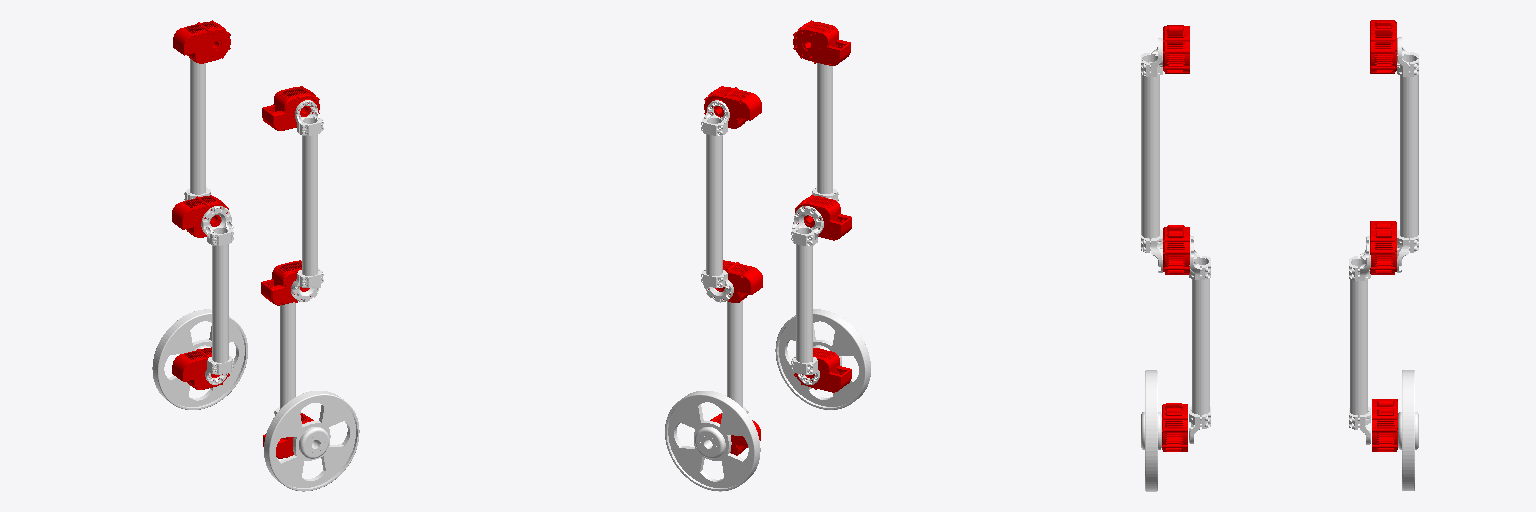
--- Facts derived from the render (not from the file) ---
The picture shows the robot from 3 angles, left to right: view 1: azimuth 30°, elevation 25°; view 2: azimuth 150°, elevation 25°; view 3: azimuth 270°, elevation 25°; orthographic projection.
Robot: igor — 17 links, 16 joints (4 revolute, 2 continuous, 10 fixed); root link base_link; default pose: all joints at 0.
Links seen in each view (by area): view 1: R_wheel, L_wheel, R_upperleg, L_lowerleg, L_upperleg, L_baseActuator, R_lowerleg, R_baseActuator, L_kneeActuator, L_wheelActuator, R_kneeActuator; view 2: L_wheel, R_wheel, L_upperleg, R_lowerleg, R_upperleg, R_baseActuator, L_lowerleg, L_baseActuator, R_kneeActuator, R_wheelActuator, L_kneeActuator; view 3: L_upperleg, R_upperleg, L_lowerleg, R_lowerleg, R_wheel, L_wheel, L_baseActuator, L_kneeActuator, L_wheelActuator, R_kneeActuator, R_baseActuator, R_wheelActuator.
Boxes of the visible links, x1=… form: R_wheel: x1=264, y1=391, x2=359, y2=491; L_wheel: x1=152, y1=309, x2=247, y2=409; R_upperleg: x1=291, y1=100, x2=323, y2=301; L_lowerleg: x1=201, y1=206, x2=233, y2=384; L_upperleg: x1=184, y1=59, x2=210, y2=200; L_baseActuator: x1=173, y1=20, x2=230, y2=63; R_lowerleg: x1=274, y1=302, x2=300, y2=414; R_baseActuator: x1=262, y1=86, x2=319, y2=130; L_kneeActuator: x1=172, y1=195, x2=228, y2=237; L_wheelActuator: x1=172, y1=347, x2=229, y2=389; R_kneeActuator: x1=261, y1=260, x2=310, y2=305; L_wheel: x1=665, y1=391, x2=760, y2=491; R_wheel: x1=775, y1=309, x2=870, y2=409; L_upperleg: x1=701, y1=100, x2=733, y2=302; R_lowerleg: x1=791, y1=206, x2=823, y2=384; R_upperleg: x1=812, y1=63, x2=838, y2=201; R_baseActuator: x1=793, y1=20, x2=850, y2=65; L_lowerleg: x1=722, y1=300, x2=748, y2=413; L_baseActuator: x1=704, y1=86, x2=761, y2=128; R_kneeActuator: x1=795, y1=195, x2=851, y2=240; R_wheelActuator: x1=794, y1=348, x2=851, y2=392; L_kneeActuator: x1=708, y1=260, x2=762, y2=302; L_upperleg: x1=1397, y1=37, x2=1418, y2=272; R_upperleg: x1=1141, y1=38, x2=1162, y2=272; L_lowerleg: x1=1349, y1=236, x2=1370, y2=444; R_lowerleg: x1=1189, y1=235, x2=1210, y2=443; R_wheel: x1=1141, y1=370, x2=1161, y2=491; L_wheel: x1=1398, y1=370, x2=1418, y2=490; L_baseActuator: x1=1370, y1=20, x2=1396, y2=73; L_kneeActuator: x1=1370, y1=221, x2=1396, y2=274; L_wheelActuator: x1=1372, y1=399, x2=1397, y2=451; R_kneeActuator: x1=1163, y1=225, x2=1189, y2=274; R_baseActuator: x1=1163, y1=25, x2=1189, y2=73; R_wheelActuator: x1=1162, y1=403, x2=1187, y2=451.
Bounding box of the posed robot: 0.2048 × 0.47 × 0.8416 m (x, y, z).
12 mesh visuals loaded from 5 distinct referenced files (4 binary STL); not drawn: 1 (reference not matched to a file when rendering).

The robot description file, URDF, robot "igor":
<?xml version="1.0" encoding="utf-8"?>
<!-- =================================================================================== -->
<!-- |    This document was autogenerated by xacro from Igor_knee.urdf.xacro           | -->
<!-- |    EDITING THIS FILE BY HAND IS NOT RECOMMENDED                                 | -->
<!-- =================================================================================== -->
<robot name="igor">
  <!-- Gazebo plug-in for ROS -->
  <gazebo>
    <plugin filename="libgazebo_ros_control.so" name="gazebo_ros_control">
      <robotNamespace>/igor</robotNamespace>
    </plugin>
  </gazebo>
  <!-- Dummy link for reference -->
  <link name="base_link"/>
  <link name="chassis">
    <inertial>
      <origin rpy="0.0 0.0 0.0" xyz="0 0 0"/>
      <mass value="5.0"/>
      <inertia ixx="0.0774" ixy="0.000" ixz="0.00000" iyy="0.04543" iyz="0.000" izz="0.04543"/>
    </inertial>
    <!-- Mass change for uncertainity-->
    <!--inertial>
     			<origin xyz="0 0 0" rpy="0.0 0.0 0.0" />
			<mass value="4" />
      			<inertia izz="0.036344" iyz="0.0" ixz="0.00" iyy="0.036344" ixy="0.000" ixx="0.061936" />
		</inertial-->
    <visual>
      <origin rpy="3.14159 0.0 -1.570795" xyz="0.0635 0.16 0.1524"/>
      <geometry>
        <!--box size="0.30 0.1 0.30"/-->
        <mesh filename="package://igor/meshes/IgorBody.STL" scale="0.001 0.001 0.001"/>
      </geometry>
      <material name="white">
        <color rgba="1 1 1 1.0"/>
      </material>
    </visual>
    <collision>
      <geometry>
        <box size="0.127 0.3048 0.3048"/>
      </geometry>
    </collision>
  </link>
  <joint name="base_link_to_chassis" type="fixed">
    <origin rpy="0 0 0" xyz="0 0 0"/>
    <parent link="base_link"/>
    <child link="chassis"/>
  </joint>
  <gazebo reference="chassis">
    <mu1 value="1.0"/>
    <mu2 value="1.0"/>
    <kp value="10000.0"/>
    <kd value="10000.0"/>
    <material>Gazebo/Grey</material>
  </gazebo>
  <!-- imu_link for getting data in imu frame -->
  <link name="body_imu_link"/>
  <joint name="body_imu_link_to_chassis" type="fixed">
    <origin rpy="0 0 0" xyz="0 0 0"/>
    <parent link="chassis"/>
    <child link="body_imu_link"/>
  </joint>
  <link name="L_baseActuator">
    <visual>
      <origin rpy="4.712385 3.14159 0" xyz="0.055 -0.0225 -0.0365"/>
      <geometry>
        <mesh filename="package://igor/meshes/X8-Export.STL" scale="0.001 0.001 0.001"/>
      </geometry>
      <material name="red">
        <color rgba="1.0 0.0 0.0 1.0"/>
      </material>
    </visual>
    <collision>
      <origin rpy="0.0 0.0 0.0" xyz="0.0 0.0 0.0"/>
      <geometry>
        <box size="0.11 0.045 0.073"/>
      </geometry>
    </collision>
    <inertial>
      <mass value="0.46"/>
      <inertia ixx="0.00066" ixy="0.0" ixz="0.0" iyy="0.00054" iyz="0.0" izz="0.00028"/>
    </inertial>
  </link>
  <gazebo reference="L_baseActuator">
    <mu1 value="1.0"/>
    <mu2 value="1.0"/>
    <kp value="10000.0"/>
    <kd value="10000.0"/>
    <material>Gazebo/Red</material>
  </gazebo>
  <joint name="L_baseActuator_joint" type="fixed">
    <parent link="chassis"/>
    <child link="L_baseActuator"/>
    <origin rpy="0 0 0" xyz="0.0 0.1749 0"/>
  </joint>
  <gazebo reference="L_baseActuator_joint">
    <preserveFixedJoint>true</preserveFixedJoint>
  </gazebo>
  <link name="R_baseActuator">
    <visual>
      <origin rpy="1.570795 3.14159 0" xyz="0.055 0.0225 0.0365"/>
      <geometry>
        <mesh filename="package://igor/meshes/X8-Export.STL" scale="0.001 0.001 0.001"/>
      </geometry>
      <material name="red">
        <color rgba="1.0 0.0 0.0 1.0"/>
      </material>
    </visual>
    <collision>
      <origin rpy="0.0 0.0 0.0" xyz="0.0 0.0 0.0"/>
      <geometry>
        <box size="0.11 0.045 0.073"/>
      </geometry>
    </collision>
    <inertial>
      <mass value="0.46"/>
      <inertia ixx="0.00066" ixy="0.0" ixz="0.0" iyy="0.00054" iyz="0.0" izz="0.00028"/>
    </inertial>
  </link>
  <gazebo reference="R_baseActuator">
    <mu1 value="1.0"/>
    <mu2 value="1.0"/>
    <kp value="10000.0"/>
    <kd value="10000.0"/>
    <material>Gazebo/Red</material>
  </gazebo>
  <joint name="R_baseActuator_joint" type="fixed">
    <parent link="chassis"/>
    <child link="R_baseActuator"/>
    <origin rpy="0 0 0" xyz="0.0 -0.1749 0.0"/>
  </joint>
  <gazebo reference="R_baseActuator_joint">
    <preserveFixedJoint>true</preserveFixedJoint>
  </gazebo>
  <!--Right Leg-->
  <link name="R_upperleg">
    <visual>
      <origin rpy="-1.570795 1.570795 3.14159" xyz="-0.03175 0.047625 0.0238125"/>
      <geometry>
        <mesh filename="package://igor/meshes/upperLeg.STL" scale="0.001 0.001 0.001"/>
        <!--cylinder radius="0.015875" length="0.35" /-->
      </geometry>
      <material name="white">
        <color rgba="1.0 1.0 1.0 1.0"/>
      </material>
    </visual>
    <collision>
      <origin rpy="0.0 0.0 0.0" xyz="0.0 0.0 -0.175"/>
      <geometry>
        <cylinder length="0.35" radius="0.015875"/>
      </geometry>
    </collision>
    <inertial>
      <origin rpy="0 0 0" xyz="0 0 -0.175"/>
      <mass value="0.22"/>
      <inertia ixx="0.00226" ixy="0.0" ixz="0.0" iyy="0.00226" iyz="0.0" izz="4.6E-05"/>
    </inertial>
  </link>
  <joint name="R_hfe_joint" type="revolute">
    <origin rpy="0 0 0" xyz="0.015875 -0.038375 0.0"/>
    <parent link="R_baseActuator"/>
    <child link="R_upperleg"/>
    <limit effort="15" lower="-0" upper="0" velocity="10"/>
    <axis xyz="0 1 0"/>
    <dynamics damping="0.1"/>
  </joint>
  <transmission name="R_hfe_trans">
    <type>transmission_interface/SimpleTransmission</type>
    <actuator name="R_hfe_motor">
      <mechanicalReduction>1</mechanicalReduction>
    </actuator>
    <joint name="R_hfe_joint">
      <hardwareInterface>hardware_interface/EffortJointInterface</hardwareInterface>
    </joint>
  </transmission>
  <gazebo reference="R_upperleg">
    <mu1 value="1.0"/>
    <mu2 value="1.0"/>
    <kp value="10000.0"/>
    <kd value="10000.0"/>
    <material>Gazebo/White</material>
  </gazebo>
  <!-- IMU Sensor -->
  <!-- imu_link for getting data in imu frame -->
  <!--link name="${prefix}_upperLeg_imu_link"/>

		<joint name="${prefix}_upperLeg_imu_link_to_${prefix}_upperleg" type="fixed">
			<origin xyz="0 0 -${upper_leg_length/2}" rpy="0 0 0" />
			<parent link="${prefix}_upperleg" />
			<child link="${prefix}_upperLeg_imu_link" />
		</joint>

		<gazebo reference="${prefix}_upperleg">
		    <gravity>true</gravity>
		    <sensor name="{prefix}_upperLeg_imu" type="imu">
		      <always_on>true</always_on>
		      <visualize>true</visualize>
		      <!topic>__default_topic__</topic>
		      <plugin filename="libgazebo_ros_imu_sensor.so" name="imu_plugin">
			<robotNamespace>/igor</robotNamespace>
			<topicName>${prefix}_upperLeg_imu/data</topicName>
			<bodyName>${prefix}_upperleg</bodyName>
			<updateRateHZ>500.0</updateRateHZ>
			<gaussianNoise>0.0</gaussianNoise>
			<xyzOffset>0 0 0</xyzOffset>
			<rpyOffset>0 0 0</rpyOffset>
			<frameName>${prefix}_upperLeg_imu_link</frameName>
		      </plugin>
		      <pose>0 0 0 0 0 0</pose>
		    </sensor>
		</gazebo-->
  <link name="R_lowerleg">
    <visual>
      <origin rpy="1.570795 1.570795 3.14159" xyz="0.0396875 -0.03175 0.0486666666667"/>
      <geometry>
        <mesh filename="package://igor/meshes/lowerLeg.STL" scale="0.001 0.001 0.001"/>
        <!--cylinder radius="0.03175" length="0.3" /-->
      </geometry>
      <material name="white"/>
    </visual>
    <collision>
      <origin rpy="0.0 0.0 0.0" xyz="0.0 0.0 -0.15"/>
      <geometry>
        <cylinder length="0.3" radius="0.015875"/>
        <!-- Actual dimensions -->
      </geometry>
    </collision>
    <inertial>
      <origin rpy="0.0 0.0 0.0" xyz="0.0 0.0 -0.15"/>
      <mass value="0.2"/>
      <inertia ixx="0.001521" ixy="0.00" ixz="0.00" iyy="0.001521" iyz="0.000" izz="4.2E-05"/>
    </inertial>
  </link>
  <joint name="R_kfe_joint" type="revolute">
    <origin rpy="0 0 0" xyz="0.01905 0.038375 0.0"/>
    <parent link="R_kneeActuator"/>
    <child link="R_lowerleg"/>
    <limit effort="15" lower="0" upper="0" velocity="10"/>
    <axis xyz="0 1 0"/>
    <dynamics damping="0.1"/>
  </joint>
  <transmission name="R_kfe_trans">
    <type>transmission_interface/SimpleTransmission</type>
    <actuator name="R_kfe_motor">
      <!--hardwareInterface>hardware_interface/EffortJointInterface</hardwareInterface-->
      <mechanicalReduction>1</mechanicalReduction>
    </actuator>
    <joint name="R_kfe_joint">
      <hardwareInterface>hardware_interface/EffortJointInterface</hardwareInterface>
    </joint>
  </transmission>
  <gazebo reference="R_lowerleg">
    <mu1 value="1.0"/>
    <mu2 value="1.0"/>
    <kp value="10000.0"/>
    <kd value="10000.0"/>
    <material>Gazebo/Grey</material>
  </gazebo>
  <!-- IMU Sensor -->
  <!-- imu_link for getting data in imu frame -->
  <!--link name="${prefix}_lowerLeg_imu_link"/>

		<joint name="${prefix}_lowerLeg_imu_link_to_${prefix}_lowerleg" type="fixed">
			<origin xyz="0 0 -${lower_leg_length/2}" rpy="0 0 0" />
			<parent link="${prefix}_lowerleg" />
			<child link="${prefix}_lowerLeg_imu_link" />
		</joint>

		<gazebo reference="${prefix}_lowerleg">
		    <gravity>true</gravity>
		    <sensor name="{prefix}_lowerLeg_imu" type="imu">
		      <always_on>true</always_on>
		      <visualize>true</visualize>
		      <!topic>__default_topic__</topic>
		      <plugin filename="libgazebo_ros_imu_sensor.so" name="imu_plugin">
			<robotNamespace>/igor</robotNamespace>
			<topicName>${prefix}_lowerLeg_imu/data</topicName>
			<bodyName>${prefix}_lowerleg</bodyName>
			<updateRateHZ>500.0</updateRateHZ>
			<gaussianNoise>0.0</gaussianNoise>
			<xyzOffset>0 0 0</xyzOffset>
			<rpyOffset>0 0 0</rpyOffset>
			<frameName>${prefix}_lowerLeg_imu_link</frameName>
		      </plugin>
		      <pose>0 0 0 0 0 0</pose>
		    </sensor>
		</gazebo-->
  <!--Left Leg-->
  <link name="L_upperleg">
    <visual>
      <origin rpy="-1.570795 1.570795 0.0" xyz="0.03175 -0.047625 0.0238125"/>
      <geometry>
        <mesh filename="package://igor/meshes/upperLeg.STL" scale="0.001 0.001 0.001"/>
        <!--cylinder radius="0.015875" length="0.35" /-->
      </geometry>
      <material name="white">
        <color rgba="1.0 1.0 1.0 1.0"/>
      </material>
    </visual>
    <collision>
      <origin rpy="0.0 0.0 0.0" xyz="0.0 0.0 -0.175"/>
      <geometry>
        <cylinder length="0.35" radius="0.015875"/>
      </geometry>
    </collision>
    <inertial>
      <origin rpy="0 0 0" xyz="0 0 -0.175"/>
      <mass value="0.22"/>
      <inertia ixx="0.00226" ixy="0.0" ixz="0.0" iyy="0.00226" iyz="0.0" izz="4.6E-05"/>
    </inertial>
  </link>
  <joint name="L_hfe_joint" type="revolute">
    <origin rpy="0 0 0" xyz="0.015875 0.038375 0.0"/>
    <parent link="L_baseActuator"/>
    <child link="L_upperleg"/>
    <limit effort="15" lower="-0" upper="0" velocity="10"/>
    <axis xyz="0 1 0"/>
    <dynamics damping="0.1"/>
  </joint>
  <transmission name="L_hfe_trans">
    <type>transmission_interface/SimpleTransmission</type>
    <actuator name="L_hfe_motor">
      <mechanicalReduction>1</mechanicalReduction>
    </actuator>
    <joint name="L_hfe_joint">
      <hardwareInterface>hardware_interface/EffortJointInterface</hardwareInterface>
    </joint>
  </transmission>
  <gazebo reference="L_upperleg">
    <mu1 value="1.0"/>
    <mu2 value="1.0"/>
    <kp value="10000.0"/>
    <kd value="10000.0"/>
    <material>Gazebo/White</material>
  </gazebo>
  <!-- IMU Sensor -->
  <!-- imu_link for getting data in imu frame -->
  <!--link name="${prefix}_upperLeg_imu_link"/>

		<joint name="${prefix}_upperLeg_imu_link_to_${prefix}_upperleg" type="fixed">
			<origin xyz="0 0 -${upper_leg_length/2}" rpy="0 0 0" />
			<parent link="${prefix}_upperleg" />
			<child link="${prefix}_upperLeg_imu_link" />
		</joint>

		<gazebo reference="${prefix}_upperleg">
		    <gravity>true</gravity>
		    <sensor name="{prefix}_upperLeg_imu" type="imu">
		      <always_on>true</always_on>
		      <visualize>true</visualize>
		      <!topic>__default_topic__</topic>
		      <plugin filename="libgazebo_ros_imu_sensor.so" name="imu_plugin">
			<robotNamespace>/igor</robotNamespace>
			<topicName>${prefix}_upperLeg_imu/data</topicName>
			<bodyName>${prefix}_upperleg</bodyName>
			<updateRateHZ>500.0</updateRateHZ>
			<gaussianNoise>0.0</gaussianNoise>
			<xyzOffset>0 0 0</xyzOffset>
			<rpyOffset>0 0 0</rpyOffset>
			<frameName>${prefix}_upperLeg_imu_link</frameName>
		      </plugin>
		      <pose>0 0 0 0 0 0</pose>
		    </sensor>
		</gazebo-->
  <link name="L_lowerleg">
    <visual>
      <origin rpy="1.570795 1.570795 0.0" xyz="-0.0396875 0.03175 0.0486666666667"/>
      <geometry>
        <mesh filename="package://igor/meshes/lowerLeg.STL" scale="0.001 0.001 0.001"/>
        <!--cylinder radius="0.03175" length="0.3" /-->
      </geometry>
      <material name="white"/>
    </visual>
    <collision>
      <origin rpy="0.0 0.0 0.0" xyz="0.0 0.0 -0.15"/>
      <geometry>
        <cylinder length="0.3" radius="0.015875"/>
        <!-- Actual dimensions -->
      </geometry>
    </collision>
    <inertial>
      <origin rpy="0.0 0.0 0.0" xyz="0.0 0.0 -0.15"/>
      <mass value="0.2"/>
      <inertia ixx="0.001521" ixy="0.00" ixz="0.00" iyy="0.001521" iyz="0.000" izz="4.2E-05"/>
    </inertial>
  </link>
  <joint name="L_kfe_joint" type="revolute">
    <origin rpy="0 0 0" xyz="0.01905 -0.038375 0.0"/>
    <parent link="L_kneeActuator"/>
    <child link="L_lowerleg"/>
    <limit effort="15" lower="0" upper="0" velocity="10"/>
    <axis xyz="0 1 0"/>
    <dynamics damping="0.1"/>
  </joint>
  <transmission name="L_kfe_trans">
    <type>transmission_interface/SimpleTransmission</type>
    <actuator name="L_kfe_motor">
      <!--hardwareInterface>hardware_interface/EffortJointInterface</hardwareInterface-->
      <mechanicalReduction>1</mechanicalReduction>
    </actuator>
    <joint name="L_kfe_joint">
      <hardwareInterface>hardware_interface/EffortJointInterface</hardwareInterface>
    </joint>
  </transmission>
  <gazebo reference="L_lowerleg">
    <mu1 value="1.0"/>
    <mu2 value="1.0"/>
    <kp value="10000.0"/>
    <kd value="10000.0"/>
    <material>Gazebo/Grey</material>
  </gazebo>
  <!-- IMU Sensor -->
  <!-- imu_link for getting data in imu frame -->
  <!--link name="${prefix}_lowerLeg_imu_link"/>

		<joint name="${prefix}_lowerLeg_imu_link_to_${prefix}_lowerleg" type="fixed">
			<origin xyz="0 0 -${lower_leg_length/2}" rpy="0 0 0" />
			<parent link="${prefix}_lowerleg" />
			<child link="${prefix}_lowerLeg_imu_link" />
		</joint>

		<gazebo reference="${prefix}_lowerleg">
		    <gravity>true</gravity>
		    <sensor name="{prefix}_lowerLeg_imu" type="imu">
		      <always_on>true</always_on>
		      <visualize>true</visualize>
		      <!topic>__default_topic__</topic>
		      <plugin filename="libgazebo_ros_imu_sensor.so" name="imu_plugin">
			<robotNamespace>/igor</robotNamespace>
			<topicName>${prefix}_lowerLeg_imu/data</topicName>
			<bodyName>${prefix}_lowerleg</bodyName>
			<updateRateHZ>500.0</updateRateHZ>
			<gaussianNoise>0.0</gaussianNoise>
			<xyzOffset>0 0 0</xyzOffset>
			<rpyOffset>0 0 0</rpyOffset>
			<frameName>${prefix}_lowerLeg_imu_link</frameName>
		      </plugin>
		      <pose>0 0 0 0 0 0</pose>
		    </sensor>
		</gazebo-->
  <!--Right knee-->
  <link name="R_kneeActuator">
    <visual>
      <origin rpy="1.570795 3.14159 0" xyz="0.055 0.0225 0.0365"/>
      <geometry>
        <mesh filename="package://igor/meshes/X8-Export.STL" scale="0.001 0.001 0.001"/>
      </geometry>
      <material name="red">
        <color rgba="1.0 0.0 0.0 1.0"/>
      </material>
    </visual>
    <collision>
      <origin rpy="0.0 0.0 0.0" xyz="0.0 0.0 0.0"/>
      <geometry>
        <box size="0.11 0.045 0.073"/>
      </geometry>
    </collision>
    <inertial>
      <mass value="0.46"/>
      <inertia ixx="0.00066" ixy="0.0" ixz="0.0" iyy="0.00054" iyz="0.0" izz="0.00028"/>
    </inertial>
  </link>
  <gazebo reference="R_kneeActuator">
    <mu1 value="1.0"/>
    <mu2 value="1.0"/>
    <kp value="10000.0"/>
    <kd value="10000.0"/>
    <material>Gazebo/Red</material>
  </gazebo>
  <joint name="R_kneeActuator_joint" type="fixed">
    <parent link="R_upperleg"/>
    <child link="R_kneeActuator"/>
    <origin rpy="0 0 0" xyz="-0.01905 0.038375 -0.374333333333"/>
  </joint>
  <gazebo reference="R_kneeActuator_joint">
    <preserveFixedJoint>true</preserveFixedJoint>
  </gazebo>
  <!--Left knee-->
  <link name="L_kneeActuator">
    <visual>
      <origin rpy="4.712385 3.14159 0" xyz="0.055 -0.0225 -0.0365"/>
      <geometry>
        <mesh filename="package://igor/meshes/X8-Export.STL" scale="0.001 0.001 0.001"/>
      </geometry>
      <material name="red">
        <color rgba="1.0 0.0 0.0 1.0"/>
      </material>
    </visual>
    <collision>
      <origin rpy="0.0 0.0 0.0" xyz="0.0 0.0 0.0"/>
      <geometry>
        <box size="0.11 0.045 0.073"/>
      </geometry>
    </collision>
    <inertial>
      <mass value="0.46"/>
      <inertia ixx="0.00066" ixy="0.0" ixz="0.0" iyy="0.00054" iyz="0.0" izz="0.00028"/>
    </inertial>
  </link>
  <gazebo reference="L_kneeActuator">
    <mu1 value="1.0"/>
    <mu2 value="1.0"/>
    <kp value="10000.0"/>
    <kd value="10000.0"/>
    <material>Gazebo/Red</material>
  </gazebo>
  <joint name="L_kneeActuator_joint" type="fixed">
    <parent link="L_upperleg"/>
    <child link="L_kneeActuator"/>
    <origin rpy="0 0 0" xyz="-0.01905 -0.038375 -0.374333333333"/>
  </joint>
  <gazebo reference="L_kneeActuator_joint">
    <preserveFixedJoint>true</preserveFixedJoint>
  </gazebo>
  <!--Right wheel-->
  <link name="R_wheelActuator">
    <visual>
      <origin rpy="1.570795 3.14159 0" xyz="0.055 0.0225 0.0365"/>
      <geometry>
        <mesh filename="package://igor/meshes/X8-Export.STL" scale="0.001 0.001 0.001"/>
      </geometry>
      <material name="red">
        <color rgba="1.0 0.0 0.0 1.0"/>
      </material>
    </visual>
    <collision>
      <origin rpy="0.0 0.0 0.0" xyz="0.0 0.0 0.0"/>
      <geometry>
        <box size="0.11 0.045 0.073"/>
      </geometry>
    </collision>
    <inertial>
      <mass value="0.46"/>
      <inertia ixx="0.00066" ixy="0.0" ixz="0.0" iyy="0.00054" iyz="0.0" izz="0.00028"/>
    </inertial>
  </link>
  <gazebo reference="R_wheelActuator">
    <mu1 value="1.0"/>
    <mu2 value="1.0"/>
    <kp value="10000.0"/>
    <kd value="10000.0"/>
    <material>Gazebo/Red</material>
  </gazebo>
  <joint name="R_wheelActuator_joint" type="fixed">
    <parent link="R_lowerleg"/>
    <child link="R_wheelActuator"/>
    <origin rpy="0 0 0" xyz="-0.015875 -0.0412 -0.3292"/>
  </joint>
  <gazebo reference="R_wheelActuator_joint">
    <preserveFixedJoint>true</preserveFixedJoint>
  </gazebo>
  <link name="R_wheel">
    <visual>
      <geometry>
        <mesh filename="package://igor/meshes/wheel.STL" scale="0.001 0.001 0.001"/>
      </geometry>
      <origin rpy="0 0 0.0" xyz="-0.1016 -0.1066 -0.1016"/>
      <material name="white">
        <color rgba="1.0 1.0 1.0 1.0"/>
      </material>
    </visual>
    <collision>
      <geometry>
        <cylinder length="0.03" radius="0.1016"/>
      </geometry>
      <origin rpy="1.570795 0 0" xyz="0 0 0"/>
    </collision>
    <inertial>
      <mass value="0.35"/>
      <inertia ixx="0.000929" ixy="0.0" ixz="0.0" iyy="0.001806" iyz="0.0" izz="0.000929"/>
    </inertial>
    <!--inertial>
	      			<mass value="0.28"/>
	      			<inertia iyy="0.001445" ixy="0.0" ixz="0.0" ixx="0.000744" iyz="0.0" izz="0.000744"/>
	    		</inertial-->
  </link>
  <gazebo reference="R_wheel">
    <mu1 value="1e+20"/>
    <!--For ground friction, large value means no slip-->
    <mu2 value="1e+20"/>
    <kp value="1e+10"/>
    <!--HOW HARD IS SURFACE (contact stiffness), higher value means harder-->
    <kd value="1.0"/>
    <minDepth>0.001</minDepth>
    <material>Gazebo/Grey</material>
  </gazebo>
  <joint name="R_wheel_joint" type="continuous">
    <origin rpy="0 0 0" xyz="0.02 -0.0375 0.0"/>
    <parent link="R_wheelActuator"/>
    <child link="R_wheel"/>
    <limit effort="5" velocity="30"/>
    <!-- effort limit in N (prismatic) or N.m (revolute), Velocity limit in m/s or rad/s -->
    <axis xyz="0 1 0"/>
    <joint_properties damping="0.1" friction="0.0"/>
  </joint>
  <!--transmission name="Diff_${prefix}_wheel_trans">
	      		<type>transmission_interface/SimpleTransmission</type>
	      		<actuator name="${prefix}_wheel_motor">
				<mechanicalReduction>1</mechanicalReduction>
	      		</actuator>
	      		<joint name="${prefix}_wheel_joint">
				<hardwareInterface>hardware_interface/VelocityJointInterface</hardwareInterface>
	      		</joint>
    		</transmission-->
  <transmission name="R_wheel_trans">
    <type>transmission_interface/SimpleTransmission</type>
    <actuator name="R_wheel_motor">
      <mechanicalReduction>1</mechanicalReduction>
    </actuator>
    <joint name="R_wheel_joint">
      <hardwareInterface>hardware_interface/EffortJointInterface</hardwareInterface>
    </joint>
  </transmission>
  <!-- Enable the Joint Feedback -->
  <gazebo reference="R_wheel_joint">
    <provideFeedback>true</provideFeedback>
  </gazebo>
  <!-- The force_torque_sensor plugin -->
  <!--gazebo>
		<plugin name="ft_sensor" filename="libgazebo_ros_ft_sensor.so">
		<updateRate>1000.0</updateRate>
		<topicName>${prefix}_wheel_ft_sensor</topicName>
		<jointName>${prefix}_wheel_joint</jointName>
		</plugin>
		</gazebo-->
  <!--Left wheel-->
  <link name="L_wheelActuator">
    <visual>
      <origin rpy="4.712385 3.14159 0" xyz="0.055 -0.0225 -0.0365"/>
      <geometry>
        <mesh filename="package://igor/meshes/X8-Export.STL" scale="0.001 0.001 0.001"/>
      </geometry>
      <material name="red">
        <color rgba="1.0 0.0 0.0 1.0"/>
      </material>
    </visual>
    <collision>
      <origin rpy="0.0 0.0 0.0" xyz="0.0 0.0 0.0"/>
      <geometry>
        <box size="0.11 0.045 0.073"/>
      </geometry>
    </collision>
    <inertial>
      <mass value="0.46"/>
      <inertia ixx="0.00066" ixy="0.0" ixz="0.0" iyy="0.00054" iyz="0.0" izz="0.00028"/>
    </inertial>
  </link>
  <gazebo reference="L_wheelActuator">
    <mu1 value="1.0"/>
    <mu2 value="1.0"/>
    <kp value="10000.0"/>
    <kd value="10000.0"/>
    <material>Gazebo/Red</material>
  </gazebo>
  <joint name="L_wheelActuator_joint" type="fixed">
    <parent link="L_lowerleg"/>
    <child link="L_wheelActuator"/>
    <origin rpy="0 0 0" xyz="-0.015875 0.0412 -0.3292"/>
  </joint>
  <gazebo reference="L_wheelActuator_joint">
    <preserveFixedJoint>true</preserveFixedJoint>
  </gazebo>
  <link name="L_wheel">
    <visual>
      <geometry>
        <mesh filename="package://igor/meshes/wheel.STL" scale="0.001 0.001 0.001"/>
      </geometry>
      <origin rpy="0 0 3.14159" xyz="0.1016 0.1066 -0.1016"/>
      <material name="white">
        <color rgba="1.0 1.0 1.0 1.0"/>
      </material>
    </visual>
    <collision>
      <geometry>
        <cylinder length="0.03" radius="0.1016"/>
      </geometry>
      <origin rpy="1.570795 0 0" xyz="0 0 0"/>
    </collision>
    <inertial>
      <mass value="0.35"/>
      <inertia ixx="0.000929" ixy="0.0" ixz="0.0" iyy="0.001806" iyz="0.0" izz="0.000929"/>
    </inertial>
    <!--inertial>
	      			<mass value="0.28"/>
	      			<inertia iyy="0.001445" ixy="0.0" ixz="0.0" ixx="0.000744" iyz="0.0" izz="0.000744"/>
	    		</inertial-->
  </link>
  <gazebo reference="L_wheel">
    <mu1 value="1e+20"/>
    <!--For ground friction, large value means no slip-->
    <mu2 value="1e+20"/>
    <kp value="1e+10"/>
    <!--HOW HARD IS SURFACE (contact stiffness), higher value means harder-->
    <kd value="1.0"/>
    <minDepth>0.001</minDepth>
    <material>Gazebo/Grey</material>
  </gazebo>
  <joint name="L_wheel_joint" type="continuous">
    <origin rpy="0 0 0" xyz="0.02 0.0375 0.0"/>
    <parent link="L_wheelActuator"/>
    <child link="L_wheel"/>
    <limit effort="5" velocity="30"/>
    <!-- effort limit in N (prismatic) or N.m (revolute), Velocity limit in m/s or rad/s -->
    <axis xyz="0 1 0"/>
    <joint_properties damping="0.1" friction="0.0"/>
  </joint>
  <!--transmission name="Diff_${prefix}_wheel_trans">
	      		<type>transmission_interface/SimpleTransmission</type>
	      		<actuator name="${prefix}_wheel_motor">
				<mechanicalReduction>1</mechanicalReduction>
	      		</actuator>
	      		<joint name="${prefix}_wheel_joint">
				<hardwareInterface>hardware_interface/VelocityJointInterface</hardwareInterface>
	      		</joint>
    		</transmission-->
  <transmission name="L_wheel_trans">
    <type>transmission_interface/SimpleTransmission</type>
    <actuator name="L_wheel_motor">
      <mechanicalReduction>1</mechanicalReduction>
    </actuator>
    <joint name="L_wheel_joint">
      <hardwareInterface>hardware_interface/EffortJointInterface</hardwareInterface>
    </joint>
  </transmission>
  <!-- Enable the Joint Feedback -->
  <gazebo reference="L_wheel_joint">
    <provideFeedback>true</provideFeedback>
  </gazebo>
  <!-- The force_torque_sensor plugin -->
  <!--gazebo>
		<plugin name="ft_sensor" filename="libgazebo_ros_ft_sensor.so">
		<updateRate>1000.0</updateRate>
		<topicName>${prefix}_wheel_ft_sensor</topicName>
		<jointName>${prefix}_wheel_joint</jointName>
		</plugin>
		</gazebo-->
  <!--Robot Center Dummy-->
  <link name="robot_center_link">
    <inertial>
      <origin rpy="0.0 0.0 0.0" xyz="0 0 0"/>
      <mass value="1e-3"/>
      <inertia ixx="0.000001" ixy="0.0" ixz="0.0" iyy="0.000001" iyz="0.0" izz="0.000001"/>
    </inertial>
    <collision>
      <geometry>
        <box size="0.001 0.001 0.001"/>
      </geometry>
    </collision>
  </link>
  <joint name="actuator_to_robot_center" type="fixed">
    <origin rpy="0 0 0" xyz="0.02 -0.1749 0.0"/>
    <parent link="L_wheelActuator"/>
    <child link="robot_center_link"/>
  </joint>
  <gazebo reference="actuator_to_robot_center">
    <preserveFixedJoint>true</preserveFixedJoint>
  </gazebo>
  <!-- imu_link for getting data in imu frame -->
  <link name="center_imu_link"/>
  <joint name="center_imu_link" type="fixed">
    <origin rpy="0 0 0" xyz="0 0 0"/>
    <parent link="robot_center_link"/>
    <child link="center_imu_link"/>
  </joint>
  <!-- Center IMU Sensor -->
  <gazebo reference="robot_center_link">
    <gravity>true</gravity>
    <sensor name="center_imu" type="imu">
      <always_on>true</always_on>
      <visualize>true</visualize>
      <update_rate>500</update_rate>
      <!--topic>__default_topic__</topic-->
      <plugin filename="libgazebo_ros_imu_sensor.so" name="imu_plugin">
        <robotNamespace>/igor</robotNamespace>
        <topicName>center_imu/data</topicName>
        <bodyName>robot_center_link</bodyName>
        <updateRateHZ>500.0</updateRateHZ>
        <gaussianNoise>0.0</gaussianNoise>
        <xyzOffset>0 0 0</xyzOffset>
        <rpyOffset>0 0 0</rpyOffset>
        <frameName>center_imu_link</frameName>
      </plugin>
      <pose>0 0 0 0 0 0</pose>
    </sensor>
  </gazebo>
  <!-- Odometery Sensor -->
  <gazebo>
    <plugin filename="libgazebo_ros_p3d.so" name="p3d_base_controller">
      <robotNamespace>/igor</robotNamespace>
      <alwaysOn>true</alwaysOn>
      <updateRate>500.0</updateRate>
      <bodyName>base_link</bodyName>
      <topicName>odom</topicName>
      <gaussianNoise>0.0</gaussianNoise>
      <frameName>map</frameName>
      <xyzOffsets>0 0 0</xyzOffsets>
      <rpyOffsets>0 0 0</rpyOffsets>
    </plugin>
  </gazebo>
  <!-- Odometery Sensor -->
  <gazebo>
    <plugin filename="libgazebo_ros_p3d.so" name="p3d_base_controller">
      <robotNamespace>/igor</robotNamespace>
      <alwaysOn>true</alwaysOn>
      <updateRate>500.0</updateRate>
      <bodyName>robot_center_link</bodyName>
      <topicName>center</topicName>
      <gaussianNoise>0.0</gaussianNoise>
      <frameName>map</frameName>
      <xyzOffsets>0 0 0</xyzOffsets>
      <rpyOffsets>0 0 0</rpyOffsets>
    </plugin>
  </gazebo>
  <!-- Body IMU Sensor -->
  <!--gazebo reference="chassis">
	    <gravity>true</gravity>
	    <sensor name="body_imu" type="imu">
	      <always_on>true</always_on>
	      <visualize>true</visualize>
	      <!topic>__default_topic__</topic>
	      <plugin filename="libgazebo_ros_imu_sensor.so" name="imu_plugin">
		<robotNamespace>/igor</robotNamespace>
		<topicName>body_imu/data</topicName>
		<bodyName>chassis</bodyName>
		<updateRateHZ>1000.0</updateRateHZ>
		<gaussianNoise>0.0</gaussianNoise>
		<xyzOffset>0 0 0</xyzOffset>
		<rpyOffset>0 0 0</rpyOffset>
		<frameName>body_imu_link</frameName>
	      </plugin>
	      <pose>0 0 0 0 0 0</pose>
	    </sensor>
	</gazebo-->
</robot>
